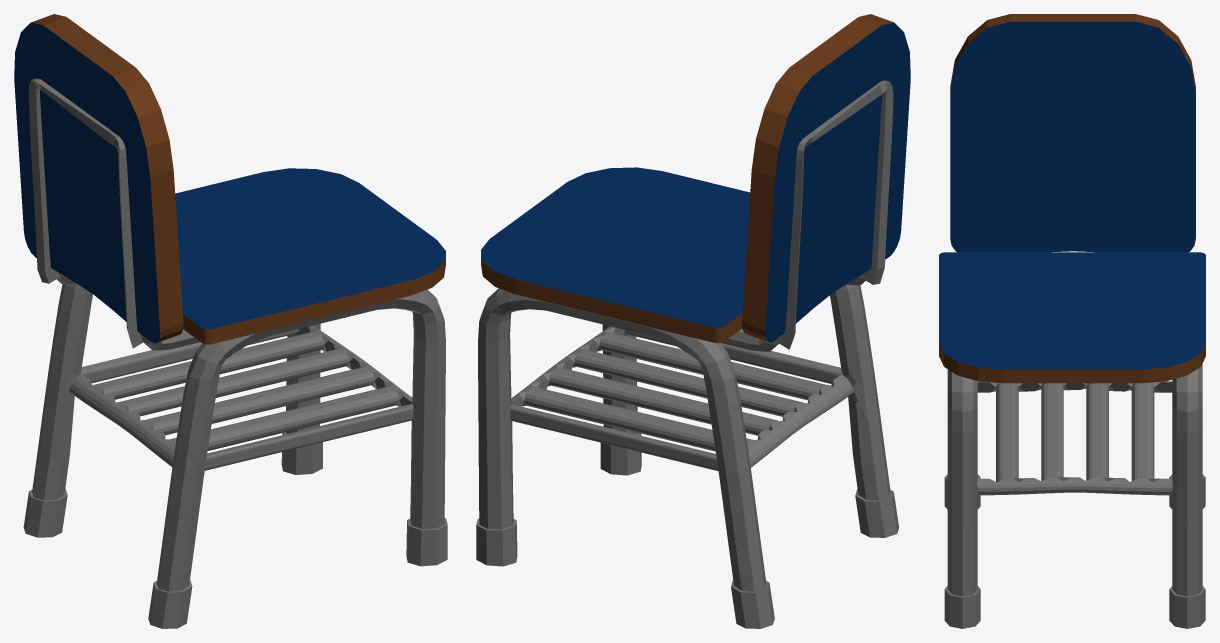
File: sillaort.fbx
3 views of the same model, side by side, from view 1: azimuth 30°, elevation 25°; view 2: azimuth 150°, elevation 25°; view 3: azimuth 270°, elevation 25° (orthographic). The views are drawn at different scales.
Visible parts, largest first — view 1: Silla; view 2: Silla; view 3: Silla.
Part boxes in pixels (<box>): Silla: <box>14,14,447,628</box>; Silla: <box>476,14,910,628</box>; Silla: <box>939,14,1205,628</box>.
Bounding box in the file's own units: 1016 × 1615 × 808.
